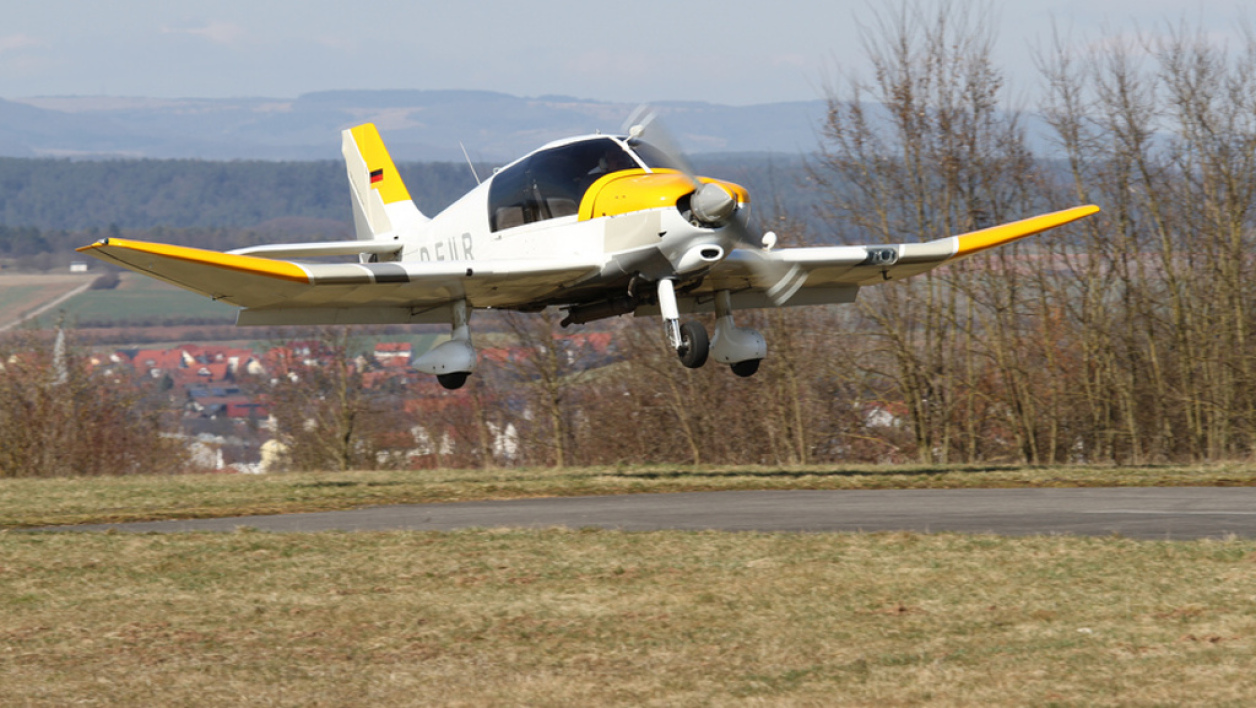Aeronef_de_loisir: (57, 103, 1109, 393)
